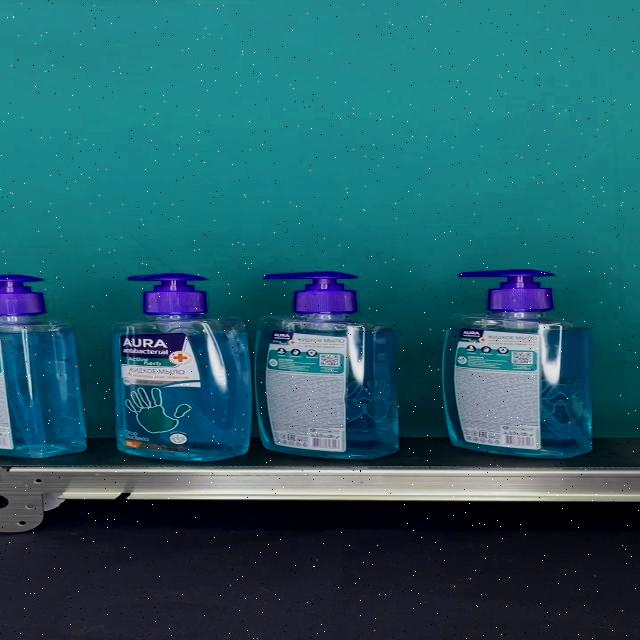Bottle: (441, 270, 592, 458), (255, 272, 398, 460), (111, 274, 251, 462)
Cap: (456, 270, 556, 313), (264, 272, 359, 315), (128, 273, 210, 315)
